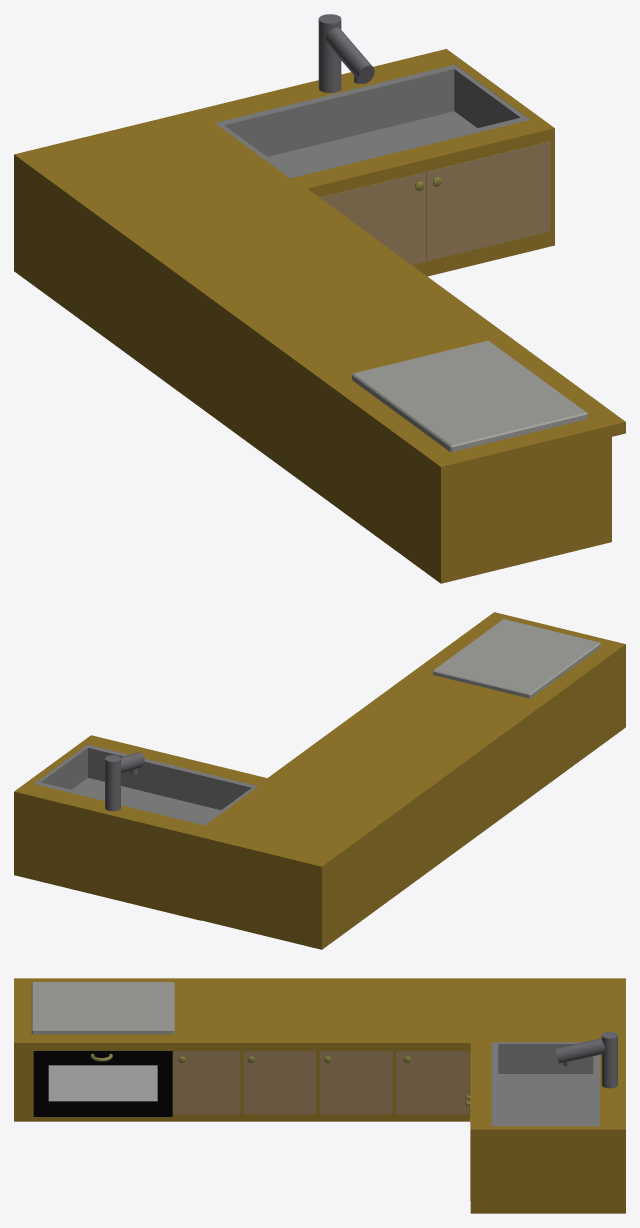
The model's file is kithen.fbx.
3 views of the same model, one above another, from view 1: azimuth 30°, elevation 25°; view 2: azimuth 150°, elevation 25°; view 3: azimuth 270°, elevation 25° (orthographic). The views are drawn at different scales.
Visible parts, largest first — view 1: polySurface2, polySurface6, pCube4 (×2), polySurface5, pCube5, pCylinder2, pCylinder3; view 2: polySurface2, polySurface5, polySurface6, pCube5, pCylinder2; view 3: polySurface2, pCube4 (×4), polySurface5, polySurface6, pCube5, polySurface4, pCube3, pCylinder2, pCylinder3.
Boxes of the visible parts, bbox=[...] form: polySurface2: bbox=[14, 113, 625, 583]; polySurface6: bbox=[215, 64, 529, 178]; pCube4 (×2): bbox=[320, 141, 550, 264]; polySurface5: bbox=[184, 49, 554, 276]; pCube5: bbox=[352, 340, 587, 452]; pCylinder2: bbox=[318, 14, 341, 92]; pCylinder3: bbox=[325, 28, 374, 83]; polySurface2: bbox=[201, 612, 625, 949]; polySurface5: bbox=[14, 735, 277, 920]; polySurface6: bbox=[34, 744, 258, 825]; pCube5: bbox=[432, 619, 600, 698]; pCylinder2: bbox=[105, 755, 120, 811]; polySurface2: bbox=[14, 978, 625, 1121]; pCube4 (×4): bbox=[173, 1051, 468, 1114]; polySurface5: bbox=[470, 1037, 625, 1213]; polySurface6: bbox=[491, 1042, 599, 1126]; pCube5: bbox=[31, 982, 174, 1034]; polySurface4: bbox=[33, 1051, 172, 1116]; pCube3: bbox=[48, 1065, 157, 1101]; pCylinder2: bbox=[601, 1031, 617, 1088]; pCylinder3: bbox=[555, 1038, 604, 1063].
Bounding box in the file's own units: 11.68 × 4.82 × 19.97.
